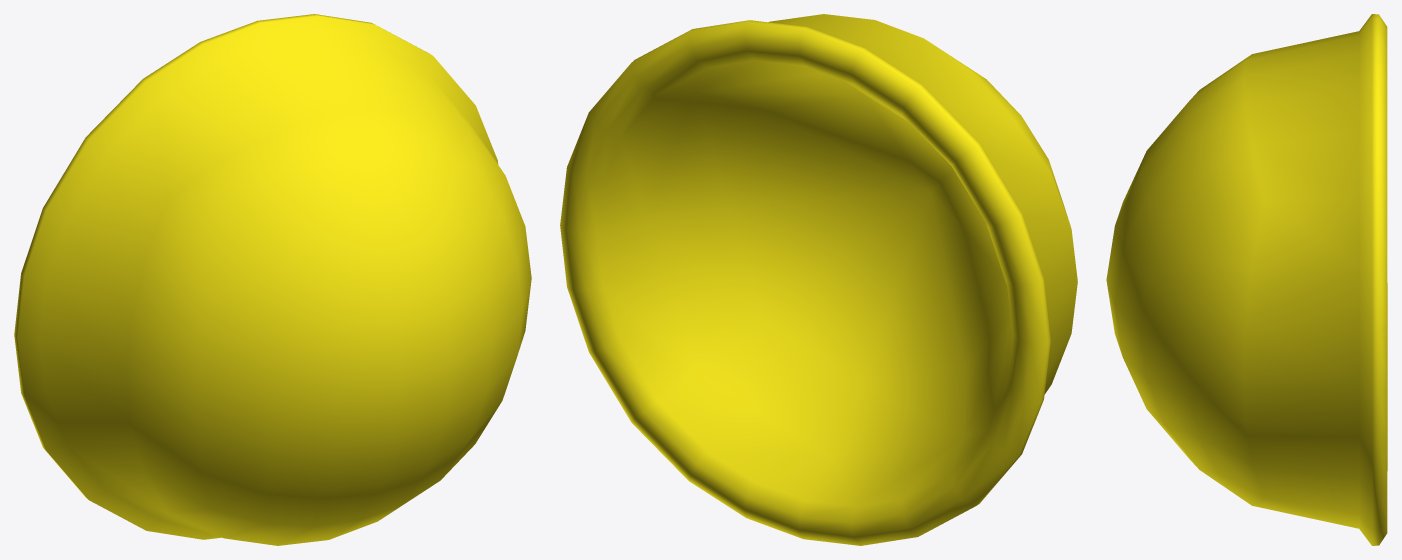
File: Amongus02_Cut_032_0.FBX
3 views of the same model, side by side, from view 1: azimuth 30°, elevation 25°; view 2: azimuth 150°, elevation 25°; view 3: azimuth 270°, elevation 25° (orthographic). The views are drawn at different scales.
Visible parts, largest first — view 1: Amongus02_Cut_032_0; view 2: Amongus02_Cut_032_0; view 3: Amongus02_Cut_032_0.
Part boxes in pixels (left/top/right/bottom): Amongus02_Cut_032_0: left=14, top=14, right=531, bottom=545; Amongus02_Cut_032_0: left=560, top=14, right=1077, bottom=545; Amongus02_Cut_032_0: left=1106, top=14, right=1387, bottom=545.
Bounding box in the file's own units: 0.7584 × 0.4 × 0.7584.
